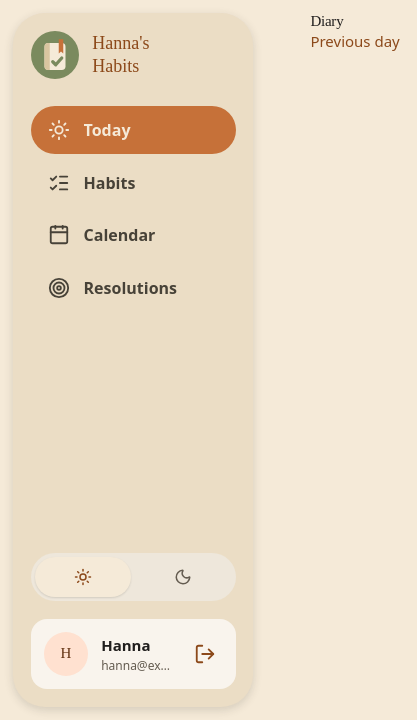
Test: AppShell › moves the focus to the new screen when the person goes to another one
Click the link "Habits" at (92, 182), box [48, 172, 135, 194]
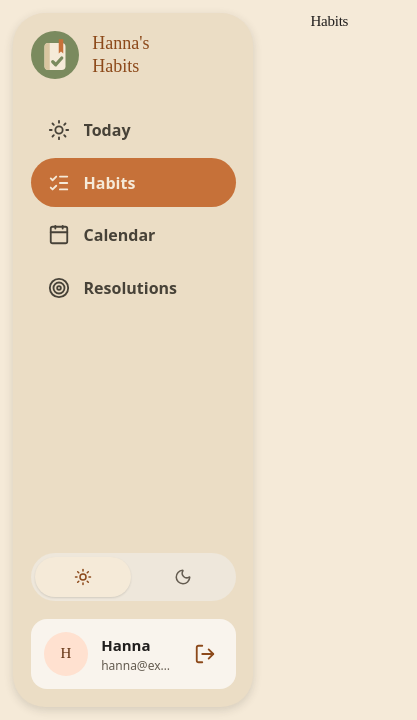
Now the heading "Habits" is shown, box [310, 13, 348, 29]
